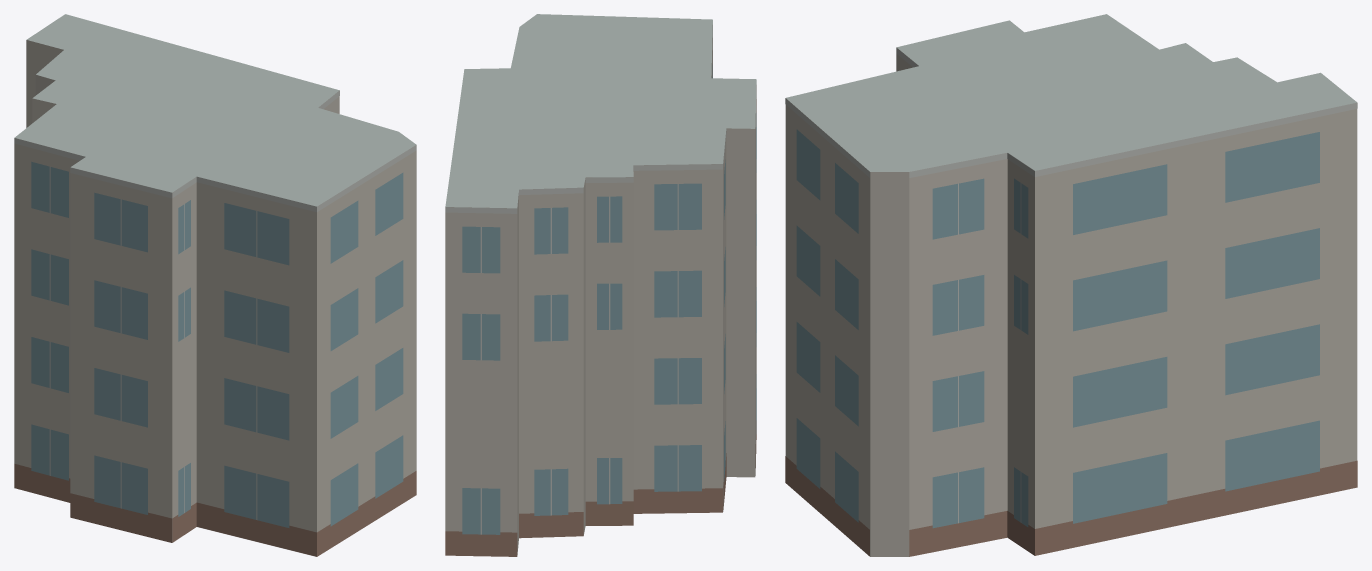
File: survey-upis-32693236.glb
The picture shows the model from 3 angles, left to right: view 1: azimuth 30°, elevation 25°; view 2: azimuth 150°, elevation 25°; view 3: azimuth 270°, elevation 25°; orthographic projection. The views are drawn at different scales.
Visible parts, largest first — view 1: survey-upis-32693236.tmp; view 2: survey-upis-32693236.tmp; view 3: survey-upis-32693236.tmp.
Boxes of the visible parts, x1=… form: survey-upis-32693236.tmp: x1=14, y1=14, x2=416, y2=556; survey-upis-32693236.tmp: x1=445, y1=14, x2=756, y2=556; survey-upis-32693236.tmp: x1=785, y1=14, x2=1357, y2=556.
Size of the model in its own units: 13.33 by 15.13 by 20.39.
